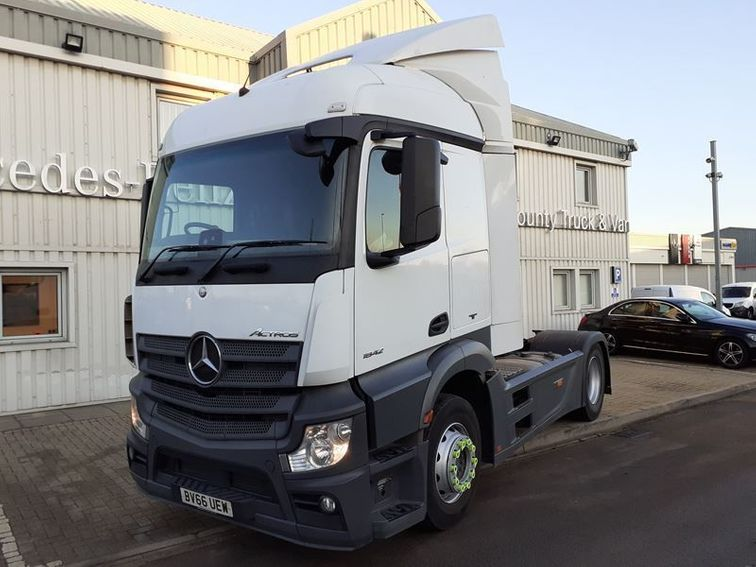Car: (579, 298, 755, 371)
Semi: (124, 14, 610, 553)
